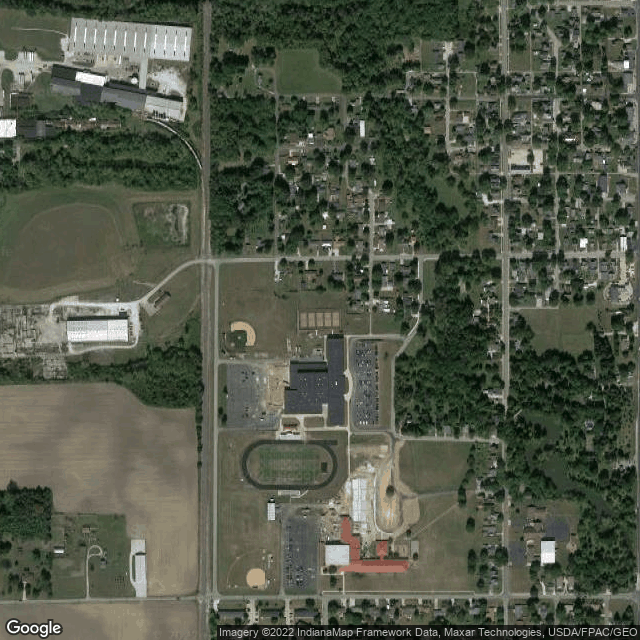Court: (300, 312, 308, 327), (307, 312, 315, 327), (316, 312, 323, 327), (324, 313, 331, 327), (333, 313, 340, 327)
